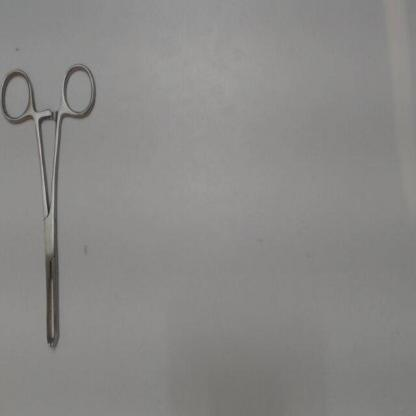Allis Tissue Forceps: (1, 59, 110, 367)
